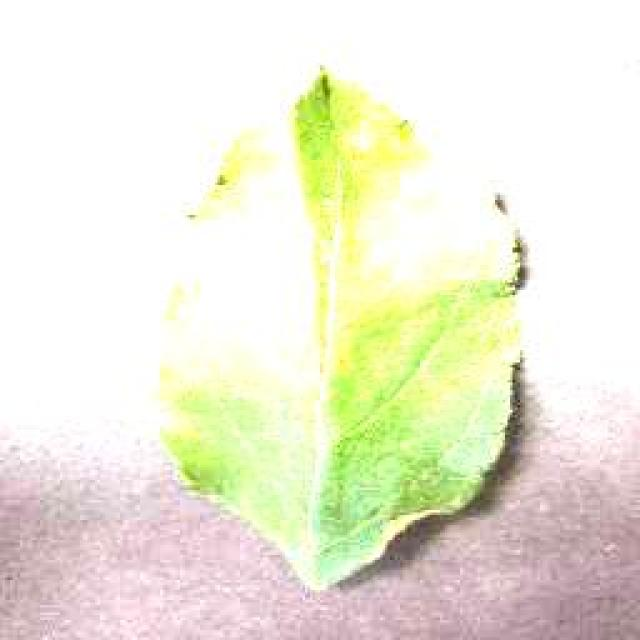apple cedar apple rust: (152, 62, 530, 592)
